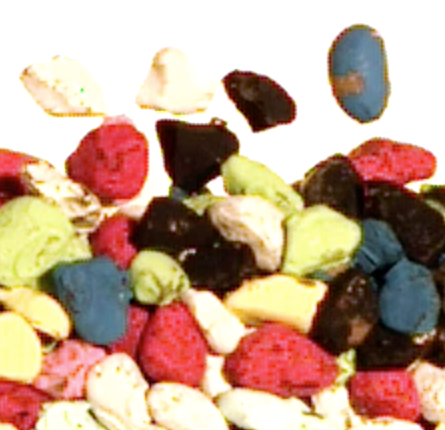black: (356, 178, 445, 267), (155, 121, 238, 197), (309, 267, 377, 357), (223, 67, 299, 134), (298, 150, 365, 220), (129, 198, 205, 254), (185, 236, 257, 294), (355, 326, 420, 370)
blue: (53, 258, 135, 342), (327, 24, 394, 125)
green: (283, 205, 361, 286), (220, 154, 307, 220)
pink: (32, 340, 108, 401)
red: (223, 322, 337, 396), (65, 119, 151, 207), (138, 302, 207, 389), (347, 140, 438, 185), (346, 371, 421, 422), (88, 214, 143, 271), (107, 301, 142, 363)
white: (205, 193, 285, 272), (19, 55, 109, 117), (136, 49, 218, 116), (25, 162, 101, 234), (85, 355, 154, 430), (181, 288, 242, 354), (202, 355, 230, 397)
yellow: (224, 268, 325, 332), (1, 286, 72, 340)
